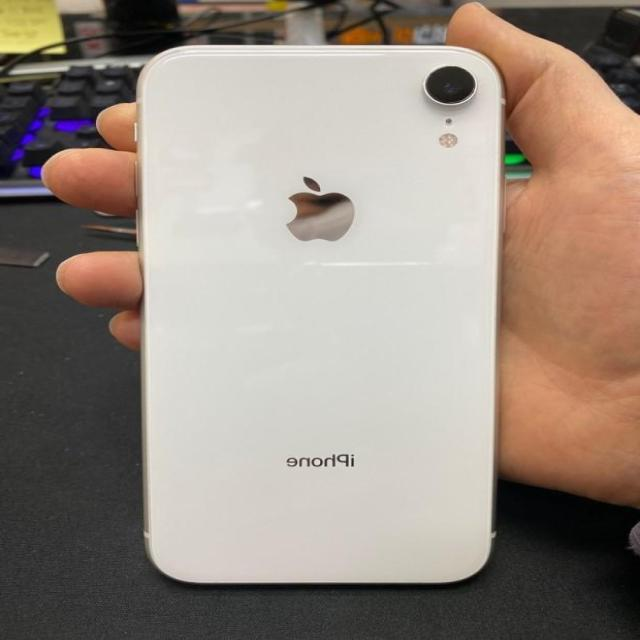mobile: (143, 46, 504, 588)
